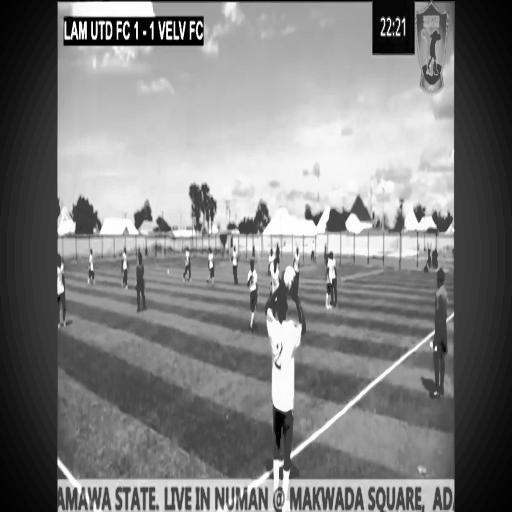ball: (281, 257, 296, 293)
distract: (166, 260, 170, 276)
referee: (433, 266, 446, 404), (135, 249, 150, 314)
team1: (56, 245, 69, 334), (231, 243, 241, 287), (182, 238, 192, 278), (332, 246, 338, 312), (122, 240, 129, 288)
team2: (264, 299, 303, 492), (322, 246, 331, 316), (248, 259, 257, 328), (87, 240, 96, 289), (208, 234, 214, 284)
